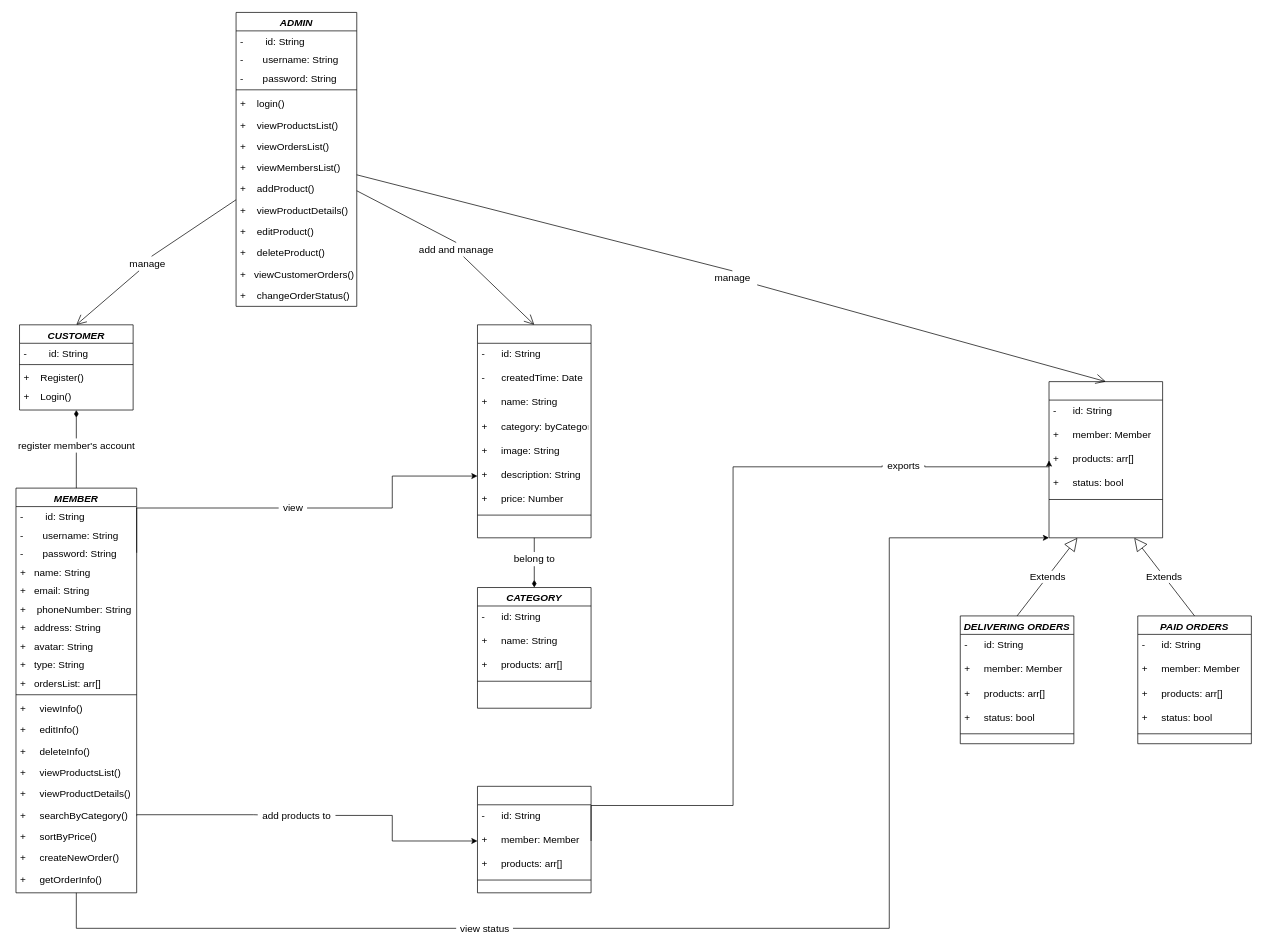
Image size: 1264x948. Some labels were removed from this diagram. Here are the shapes that lost their labels. From the top down, the box of each, then its label:
(477, 324, 591, 538): PRODUCT
(1048, 381, 1163, 538): ORDERS
(477, 786, 591, 893): CART
